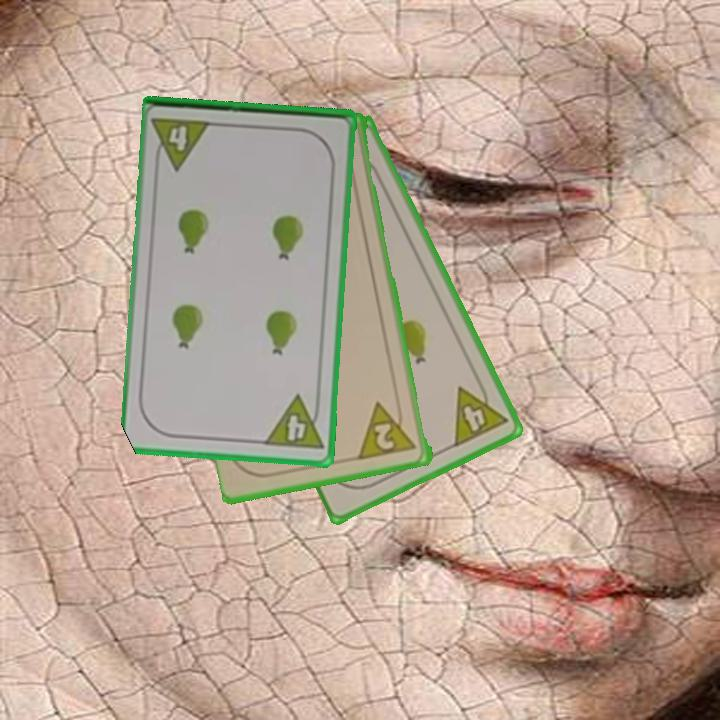2p: (356, 396, 420, 463)
4p: (450, 374, 510, 451), (261, 392, 326, 454), (150, 114, 215, 173)
